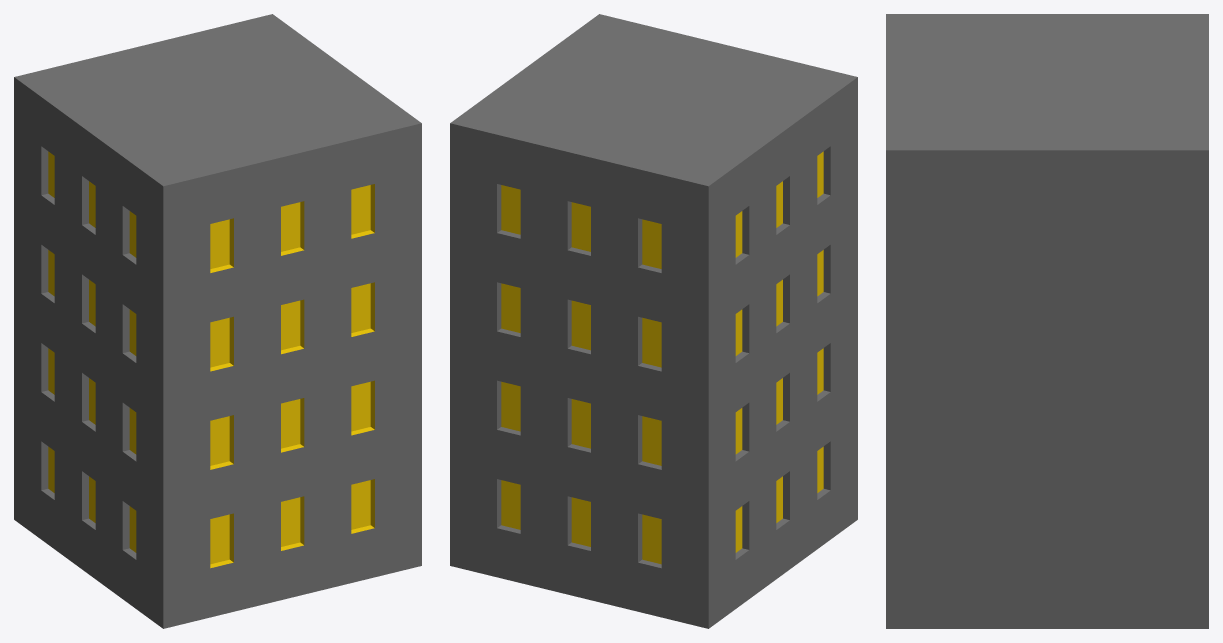
Rendered from BG_Building.fbx.
3 renders of one model, left to right at view 1: azimuth 30°, elevation 25°; view 2: azimuth 150°, elevation 25°; view 3: azimuth 270°, elevation 25°, orthographic. The views are drawn at different scales.
Visible parts, largest first — view 1: Gray Mesh (1), yellow_emm Mesh (1); view 2: Gray Mesh (1), yellow_emm Mesh (1); view 3: Gray Mesh (1).
Boxes of the visible parts, <box> form: Gray Mesh (1): <box>14,14,421,628</box>; yellow_emm Mesh (1): <box>48,151,374,568</box>; Gray Mesh (1): <box>450,14,857,628</box>; yellow_emm Mesh (1): <box>501,151,823,564</box>; Gray Mesh (1): <box>886,14,1208,628</box>.
Size of the model in its own units: 11 by 18 by 11.
